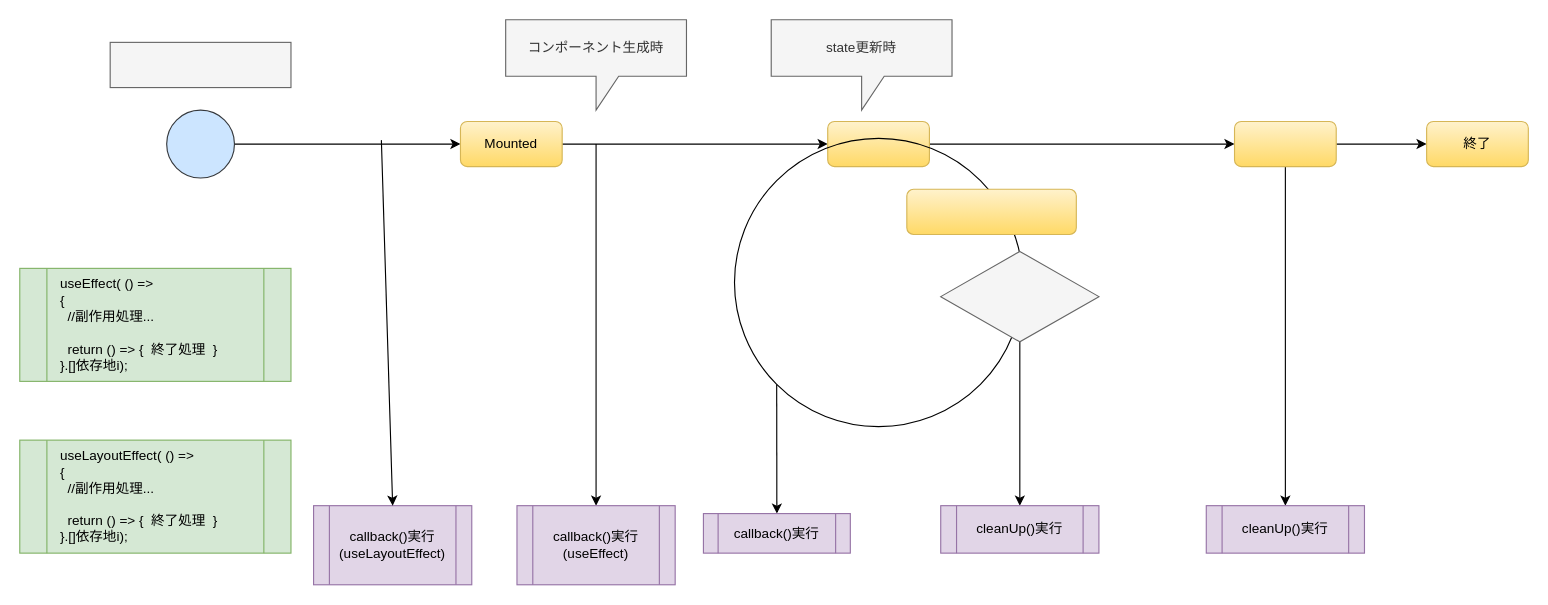
The diagram is 1548 pixels wide and 605 high, and some of its shapes have lost their labels. Each missing label, with the centre of its shape:
"<Component />" goes at point 200,64.
"Unmounted" goes at point 1284,143.
"Updated" goes at point 878,143.
"・空配列でない ・依存地が更新 されているか" goes at point 1019,296.
"再レンダリング&DOM更新" goes at point 991,211.
